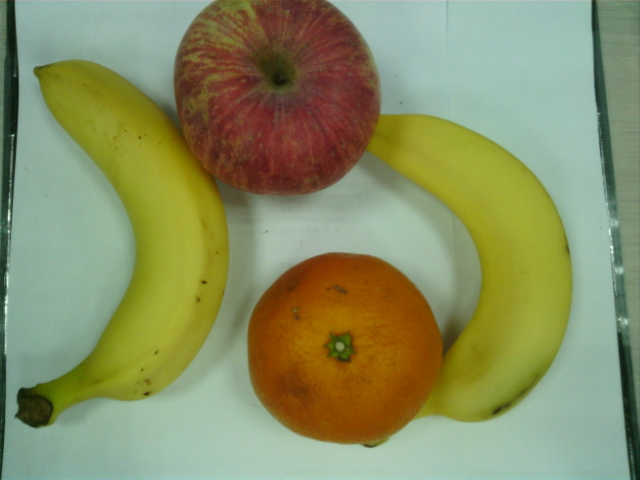normal_apple: (175, 2, 381, 197)
normal_banana: (17, 59, 229, 428), (368, 114, 574, 423)
normal_orange: (247, 253, 443, 443)
